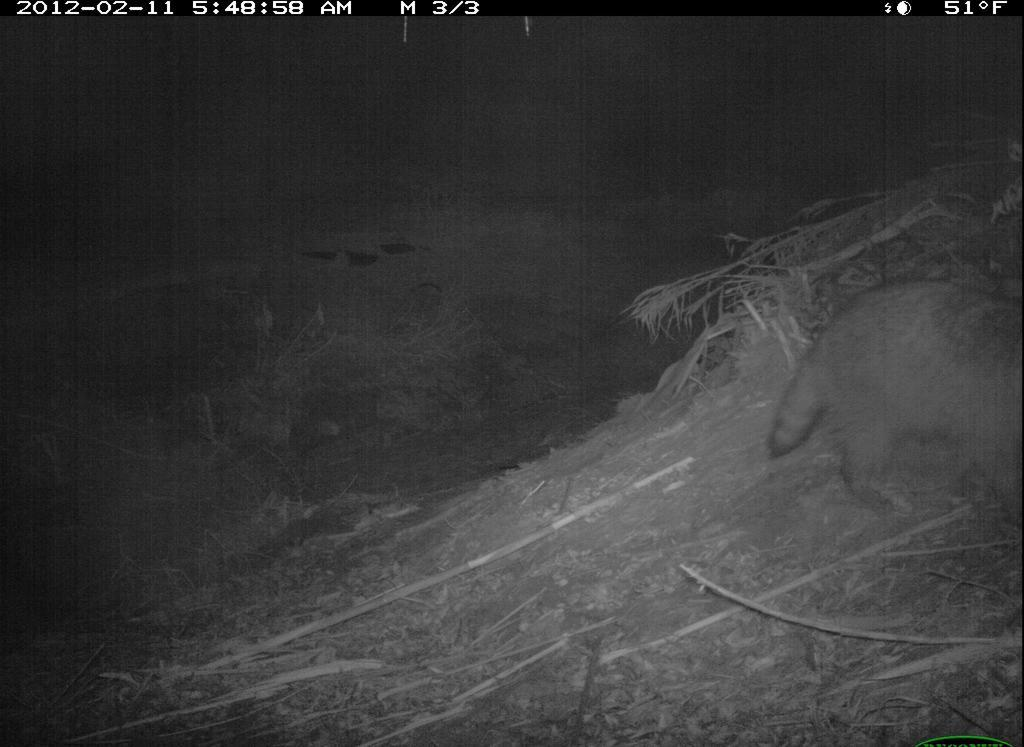raccoon: (770, 276, 1023, 524)
